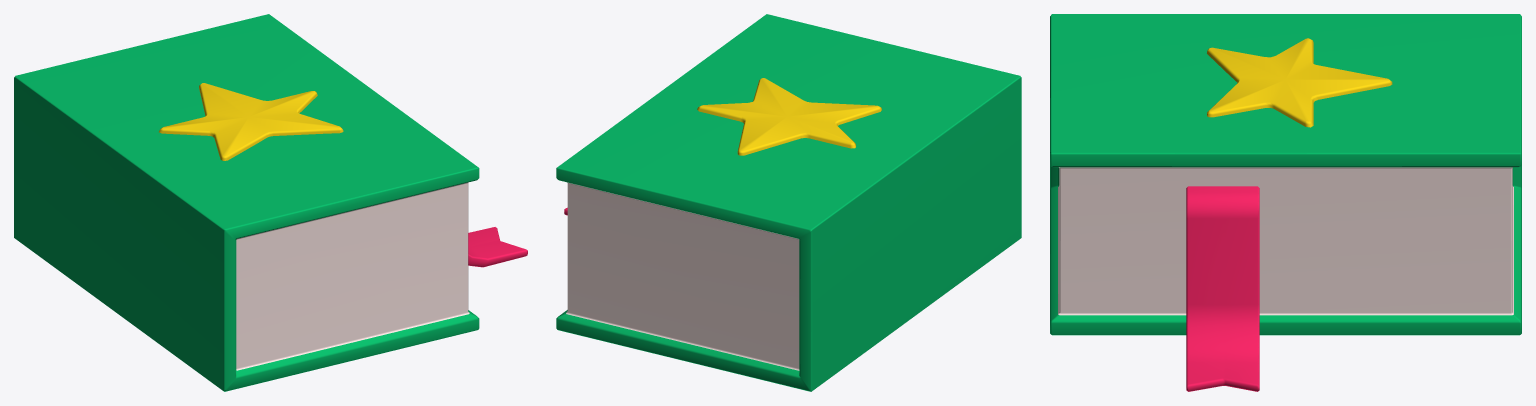
File: Public_2_Book_9.glb
3 renders of one model, left to right at view 1: azimuth 30°, elevation 25°; view 2: azimuth 150°, elevation 25°; view 3: azimuth 270°, elevation 25°, orthographic. The views are drawn at different scales.
Parts seen in each view (by area): view 1: Public_2_Book_9; view 2: Public_2_Book_9; view 3: Public_2_Book_9.
Part boxes in pixels (x1=…): Public_2_Book_9: x1=14, y1=14, x2=527, y2=391; Public_2_Book_9: x1=556, y1=14, x2=1021, y2=391; Public_2_Book_9: x1=1050, y1=14, x2=1521, y2=391.
Size of the model in its own units: 2.05 by 0.8964 by 2.05.
Materials: 1 (1 with a texture image).
